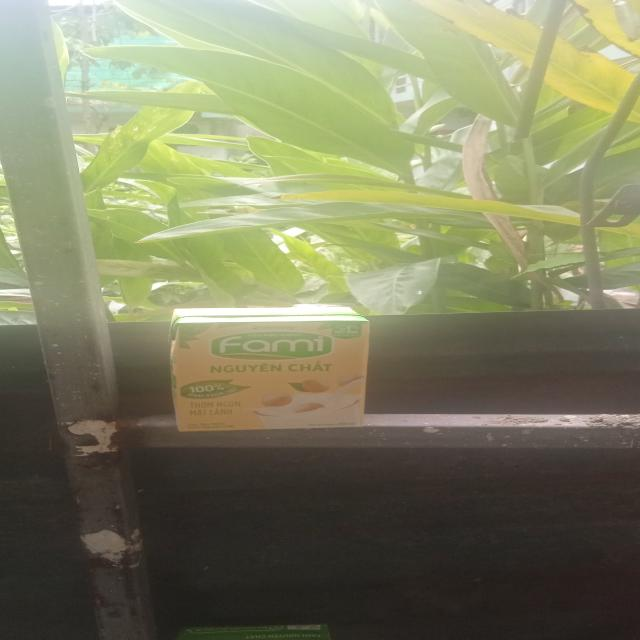Fami: (171, 307, 368, 429)
